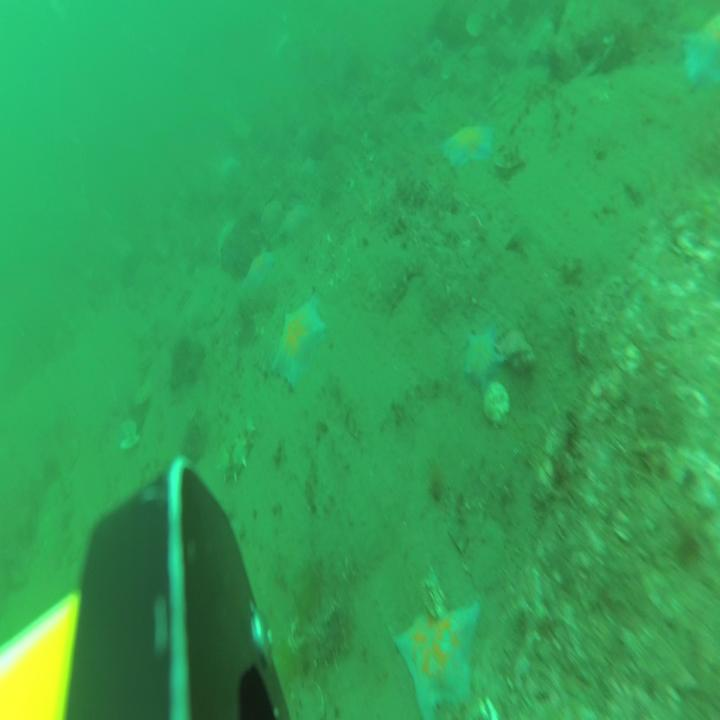echinus: (548, 46, 571, 84), (550, 6, 573, 38)
holothurian: (219, 420, 256, 481)
scallop: (482, 381, 512, 425), (120, 423, 141, 453), (137, 379, 153, 405)
starfish: (394, 565, 480, 720), (272, 290, 327, 393), (683, 12, 720, 95), (466, 325, 502, 398), (444, 123, 495, 173), (243, 251, 274, 295), (280, 204, 309, 241), (263, 200, 285, 239)
